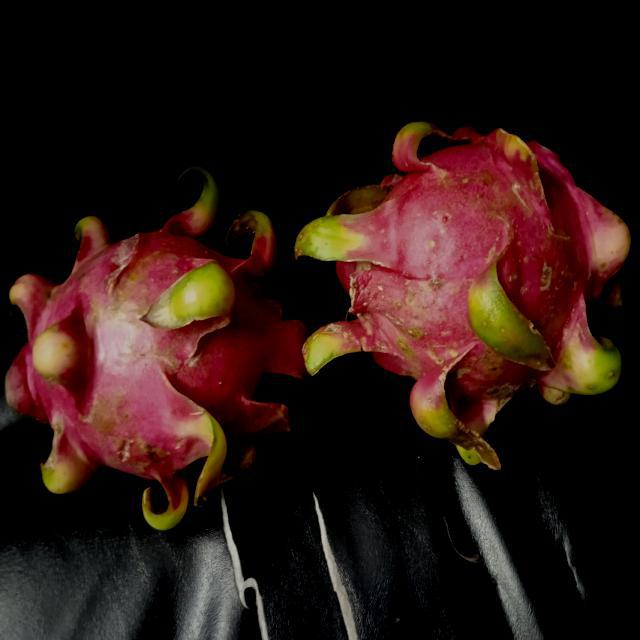do: (299, 116, 632, 468), (7, 163, 306, 526)
